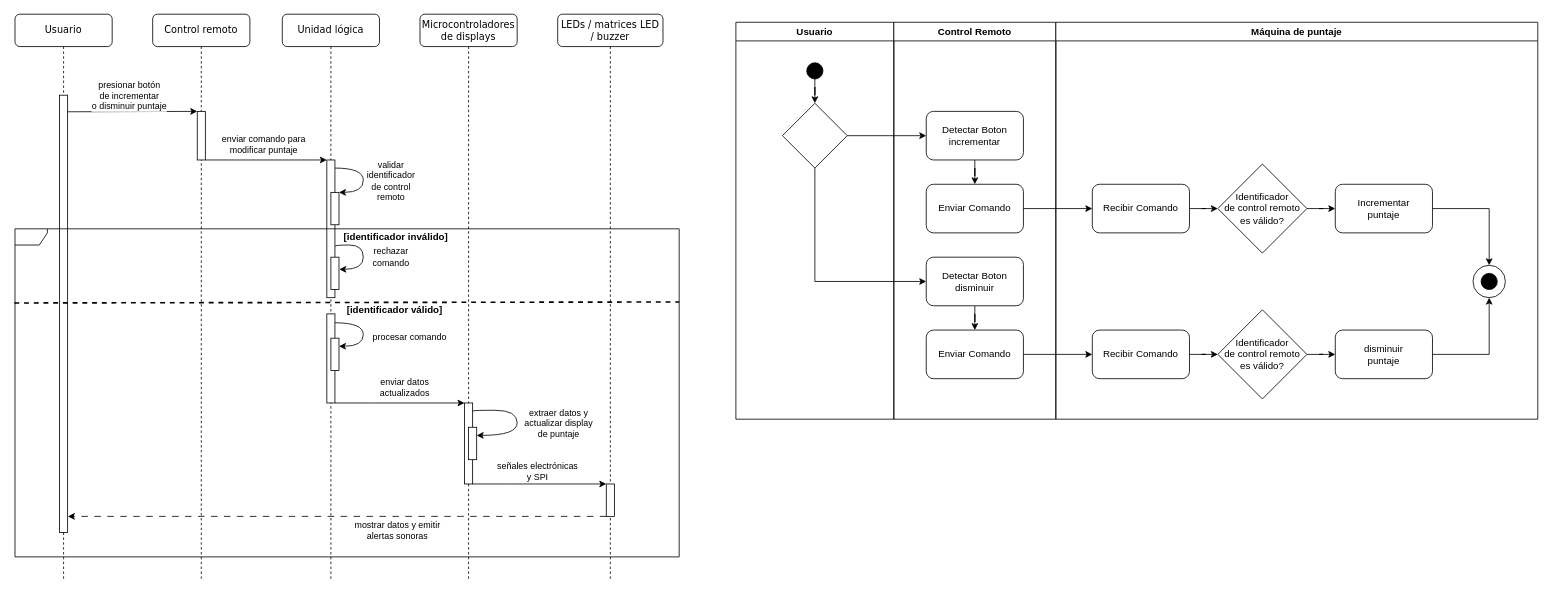
Image size: 1553x595. Some labels were removed from this diagram. The centre of each missing label's shape, as x and y in pixels:
"alt" belongs at point 346,392.
"Incrementar o disminuir" belongs at point 814,135.
